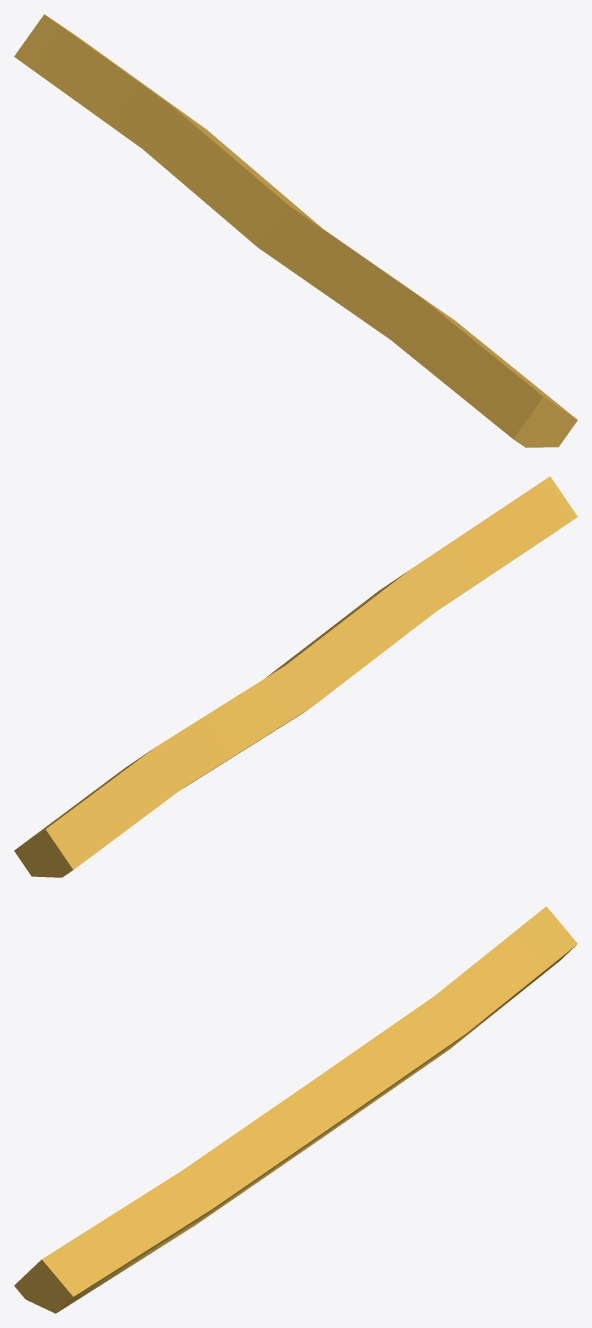
Rendered from gimbap_danmuji.fbx.
3 views of the same model, one above another, from view 1: azimuth 30°, elevation 25°; view 2: azimuth 150°, elevation 25°; view 3: azimuth 330°, elevation 25° (orthographic). The views are drawn at different scales.
Visible parts, largest first — view 1: gimbap_danmuji; view 2: gimbap_danmuji; view 3: gimbap_danmuji.
Boxes of the visible parts, bbox=[...] form: gimbap_danmuji: bbox=[14, 14, 577, 447]; gimbap_danmuji: bbox=[14, 476, 577, 877]; gimbap_danmuji: bbox=[14, 906, 577, 1313].
Size of the model in its own units: 2.13 by 1.45 by 22.06.
